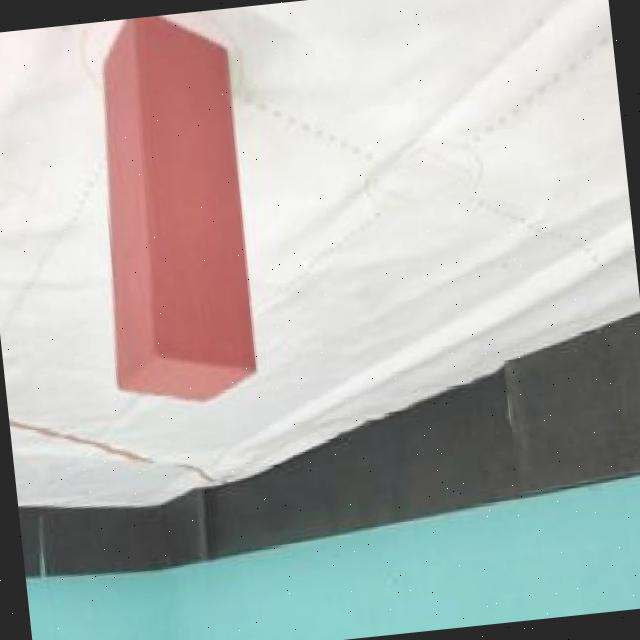redbox: (79, 9, 263, 408)
